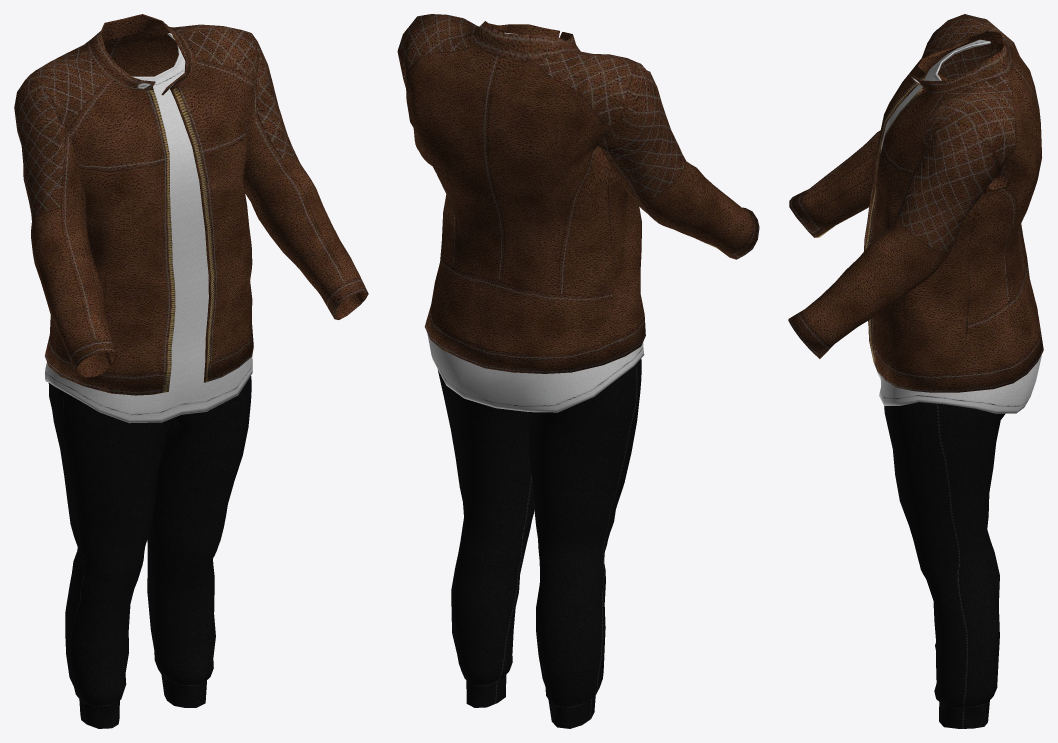
File: look.glb
3 views of the same model, side by side, from view 1: azimuth 30°, elevation 25°; view 2: azimuth 150°, elevation 25°; view 3: azimuth 270°, elevation 25° (orthographic). The views are drawn at different scales.
Visible parts, largest first — view 1: look_avaturn; view 2: look_avaturn; view 3: look_avaturn.
Part boxes in pixels (x1=…): look_avaturn: x1=14, y1=14, x2=368, y2=728; look_avaturn: x1=397, y1=14, x2=759, y2=728; look_avaturn: x1=788, y1=14, x2=1043, y2=728.
Size of the model in its own units: 0.6374 by 1.42 by 0.4988.
Materials: 1 (1 with a texture image).
